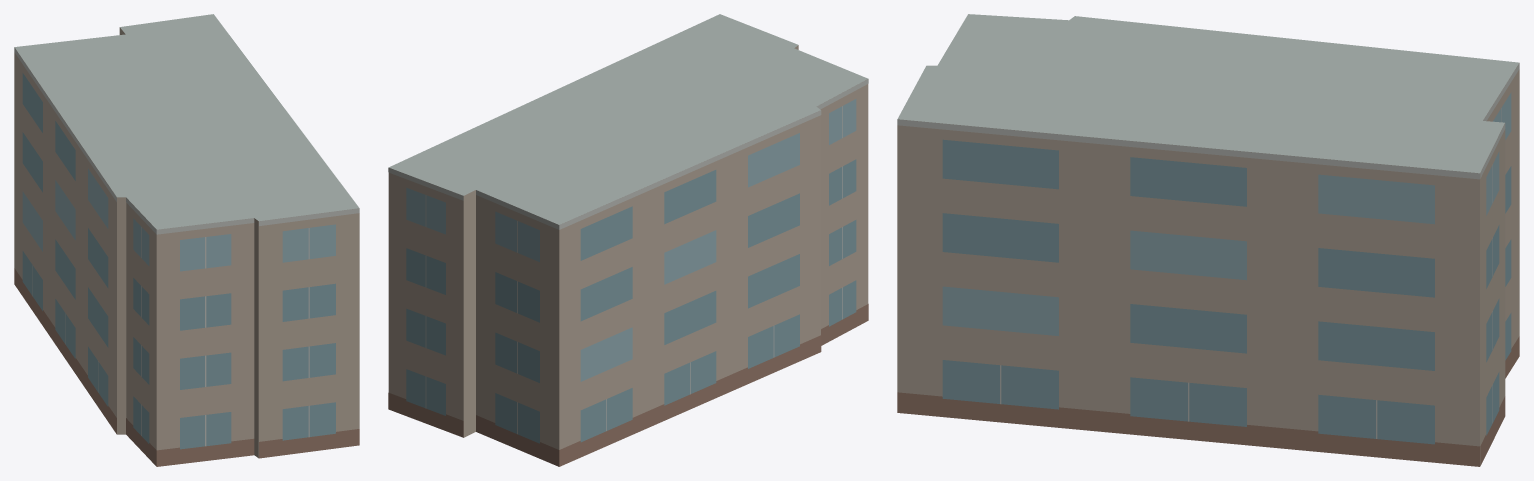
The model's file is survey-upis-32583074.glb.
3 renders of one model, left to right at view 1: azimuth 30°, elevation 25°; view 2: azimuth 150°, elevation 25°; view 3: azimuth 270°, elevation 25°, orthographic. The views are drawn at different scales.
Parts seen in each view (by area): view 1: survey-upis-32583074.tmp; view 2: survey-upis-32583074.tmp; view 3: survey-upis-32583074.tmp.
Boxes of the visible parts, x1,y1,x2,y2 form: survey-upis-32583074.tmp: [14, 14, 359, 466]; survey-upis-32583074.tmp: [388, 14, 868, 466]; survey-upis-32583074.tmp: [897, 14, 1519, 466].
Size of the model in its own units: 13.68 by 11.75 by 22.58.
